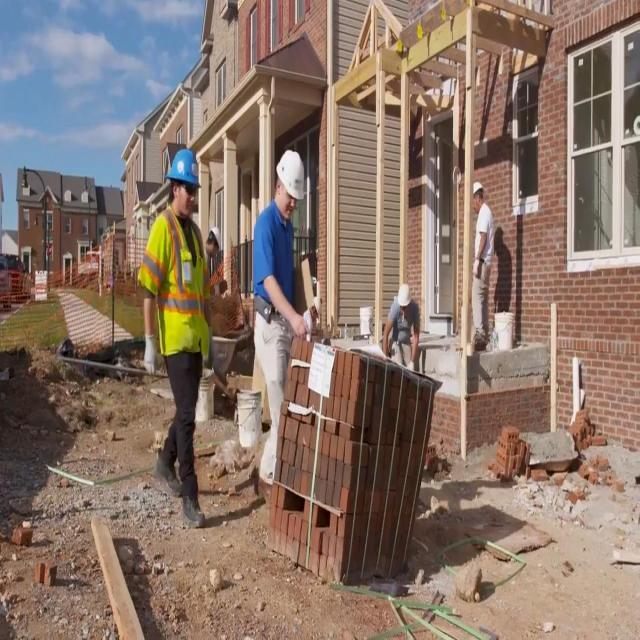blue helmet: (166, 141, 211, 193)
white helmet: (271, 146, 319, 206), (394, 286, 419, 314), (461, 181, 496, 199)
